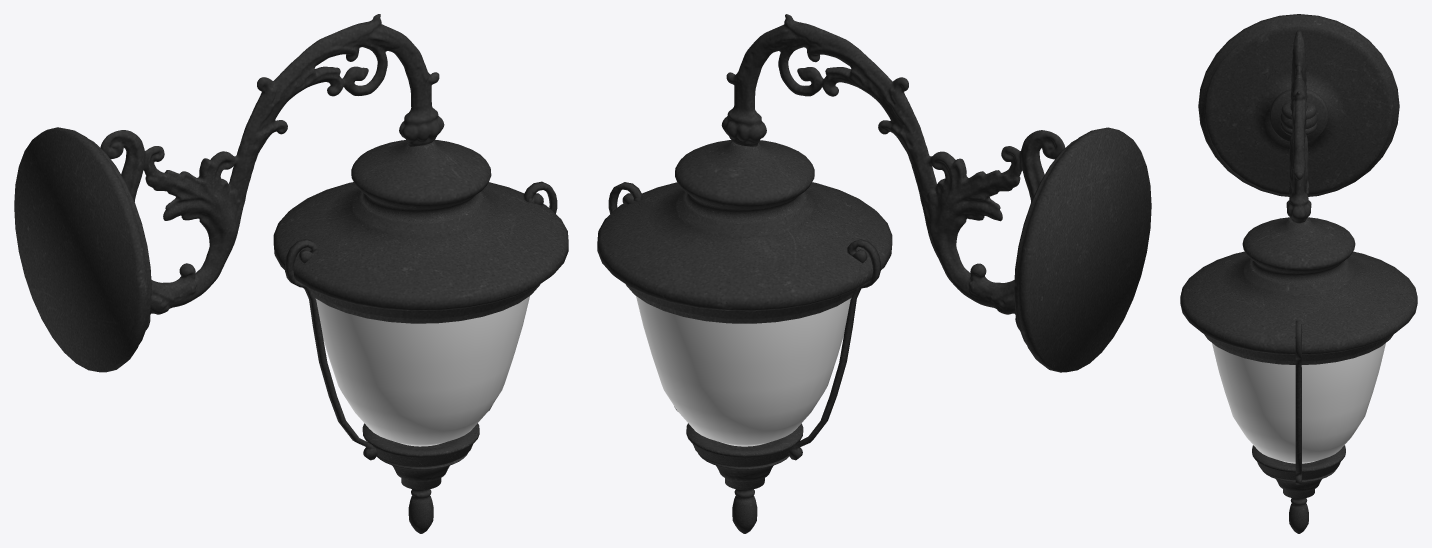
Rendered from walllamp.glb.
3 views of the same model, side by side, from view 1: azimuth 30°, elevation 25°; view 2: azimuth 150°, elevation 25°; view 3: azimuth 270°, elevation 25° (orthographic). The views are drawn at different scales.
Visible parts, largest first — view 1: Cylinder.009, Cylinder.006, Cylinder.007, Cylinder.010, Cylinder.021, Cylinder.011; view 2: Cylinder.009, Cylinder.006, Cylinder.007, Cylinder.010, Cylinder.021, Cylinder.011; view 3: Cylinder.006, Cylinder.009, Cylinder.010, Cylinder.007, Cylinder.021, Cylinder.020, Cylinder.022.
Part boxes in pixels (box(x1,y1,x2,y2)): Cylinder.009: box(273, 139, 568, 323); Cylinder.006: box(14, 127, 151, 372); Cylinder.007: box(100, 14, 444, 329); Cylinder.010: box(315, 296, 529, 446); Cylinder.021: box(362, 423, 479, 533); Cylinder.011: box(285, 239, 377, 460); Cylinder.009: box(597, 140, 892, 323); Cylinder.006: box(1014, 127, 1151, 372); Cylinder.007: box(721, 14, 1065, 330); Cylinder.010: box(636, 296, 851, 446); Cylinder.021: box(686, 423, 803, 533); Cylinder.011: box(788, 239, 880, 460); Cylinder.006: box(1198, 14, 1399, 196); Cylinder.009: box(1180, 217, 1417, 364); Cylinder.010: box(1212, 343, 1385, 463); Cylinder.007: box(1286, 30, 1311, 223); Cylinder.021: box(1252, 445, 1345, 533); Cylinder.020: box(1295, 320, 1302, 484); Cylinder.022: box(1280, 102, 1317, 135).
Size of the model in its own units: 4.57 by 4.82 by 2.44.
1 material, 1 textured.
